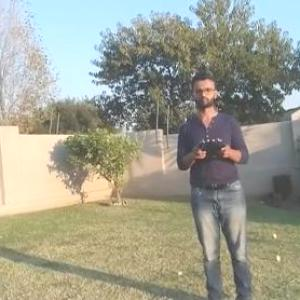follow: (172, 65, 260, 299)
